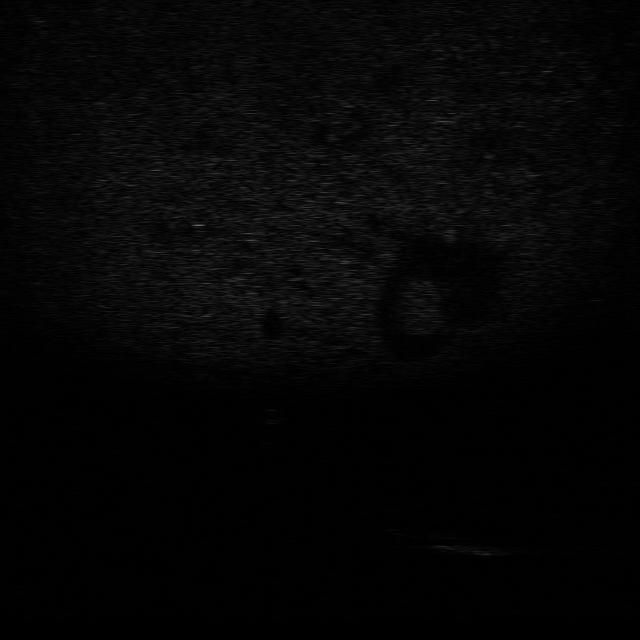ball: (254, 408, 291, 426)
metal bucket: (431, 536, 531, 560)
tyre: (378, 522, 470, 542)
